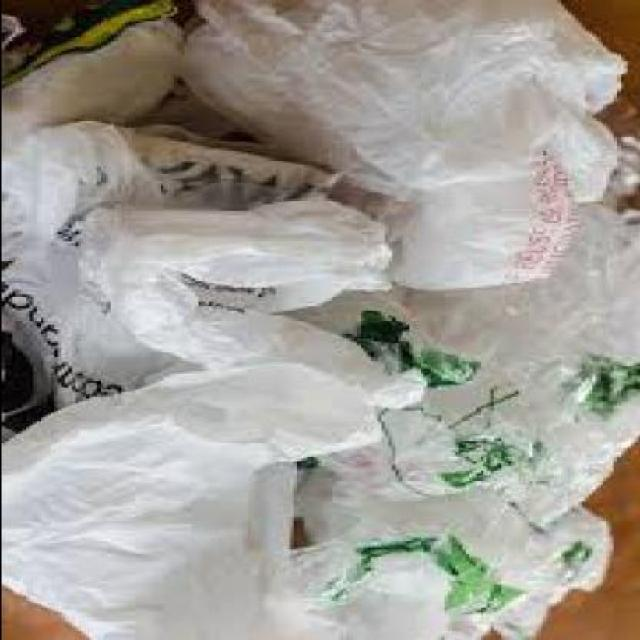PLASTIC: (172, 0, 633, 297), (3, 358, 432, 638), (4, 116, 404, 415), (298, 305, 637, 638), (376, 128, 638, 460), (3, 0, 194, 122)
